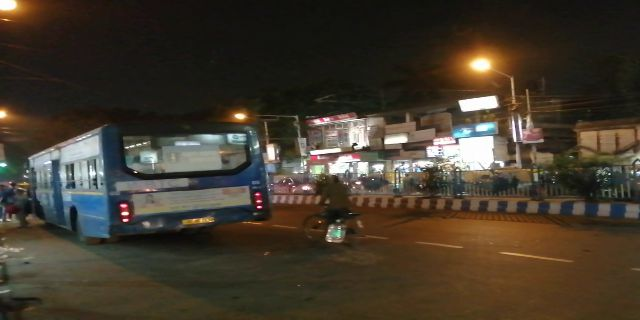Bus: (20, 121, 276, 242)
Cycle: (302, 169, 371, 253)
